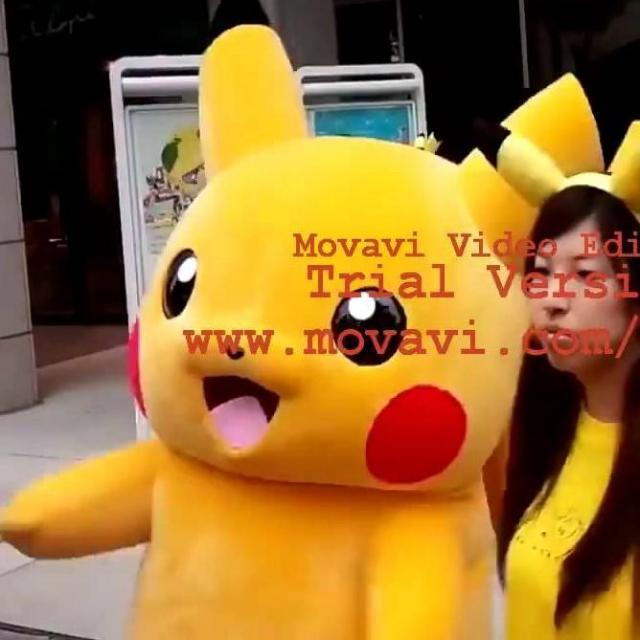pikachu: (3, 8, 601, 636)
